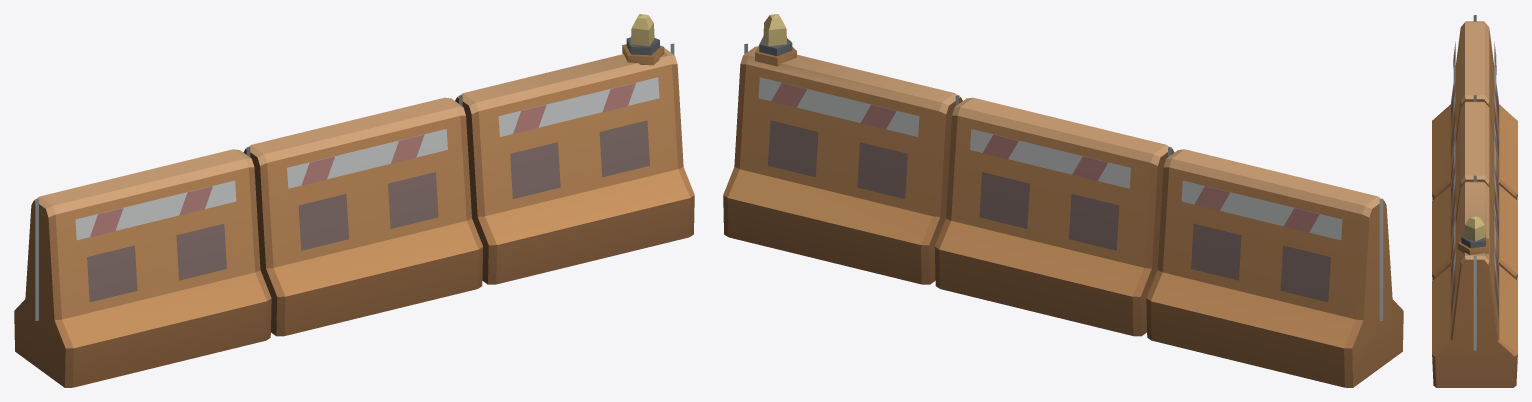
The model's file is barrier.lod1.glb.
The picture shows the model from 3 angles, left to right: view 1: azimuth 30°, elevation 25°; view 2: azimuth 150°, elevation 25°; view 3: azimuth 270°, elevation 25°; orthographic projection. The views are drawn at different scales.
Bounding box in the file's own units: 4 × 1.24 × 0.6.
